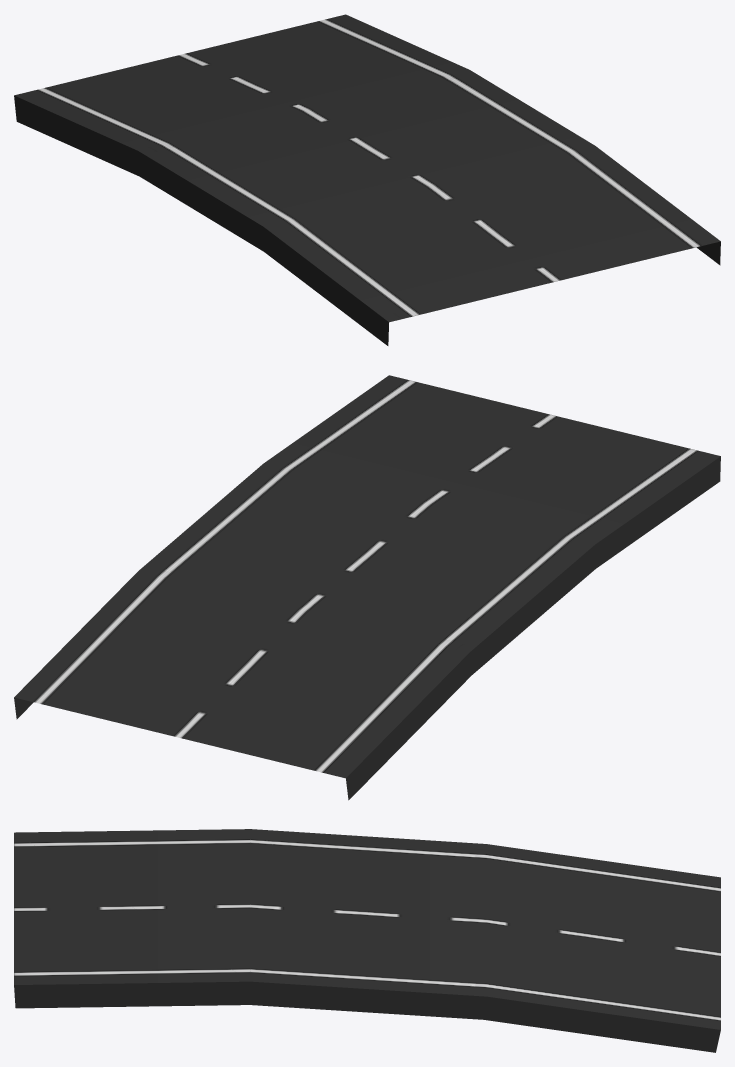
Rendered from road_bend.FBX.
3 views of the same model, one above another, from view 1: azimuth 30°, elevation 25°; view 2: azimuth 150°, elevation 25°; view 3: azimuth 270°, elevation 25° (orthographic). The views are drawn at different scales.
Parts seen in each view (by area): view 1: Box028; view 2: Box028; view 3: Box028.
Part boxes in pixels (bbox=[...]): Box028: bbox=[14, 14, 720, 345]; Box028: bbox=[14, 375, 720, 800]; Box028: bbox=[14, 829, 720, 1052].
Bounding box in the file's own units: 2800 × 610 × 5483.
